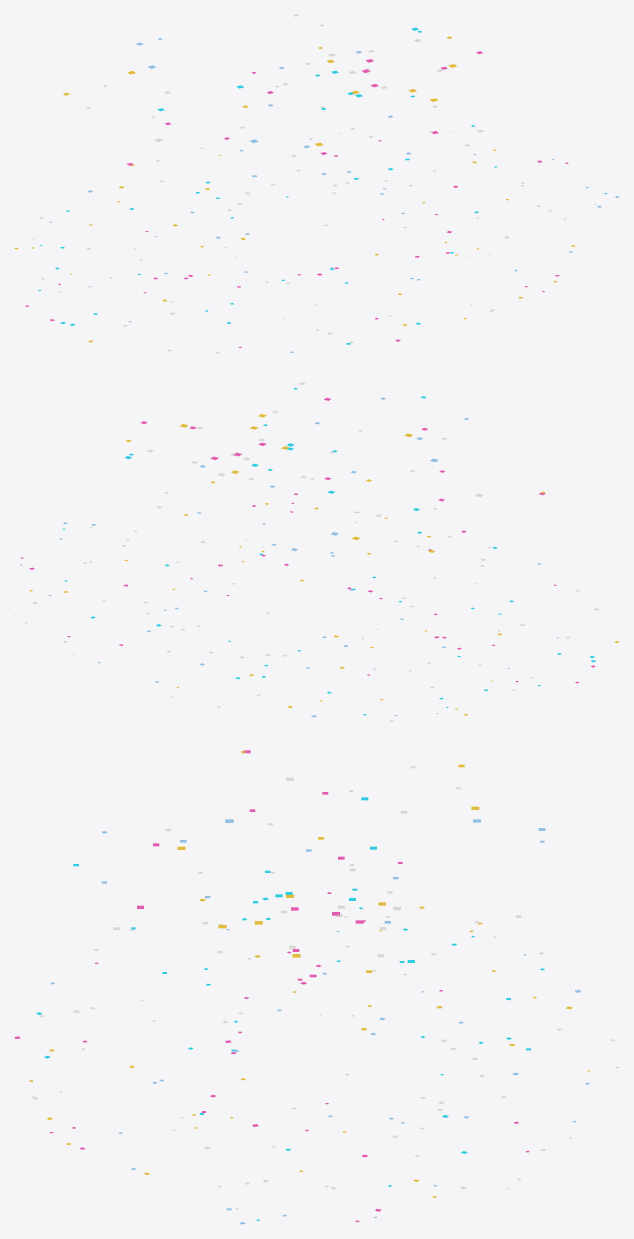
The model's file is Spangles.obj.
3 views of the same model, one above another, from view 1: azimuth 30°, elevation 25°; view 2: azimuth 150°, elevation 25°; view 3: azimuth 270°, elevation 25° (orthographic). The views are drawn at different scales.
Visible parts, largest first — view 1: Spangles; view 2: Spangles; view 3: Spangles.
Boxes of the visible parts, x1,y1,x2,y2 form: Spangles: (14, 14, 619, 353); Spangles: (14, 382, 619, 721); Spangles: (14, 750, 619, 1224).
Size of the model in its own units: 29.93 by 7.66 by 23.05.
5 materials, 5 textured.
